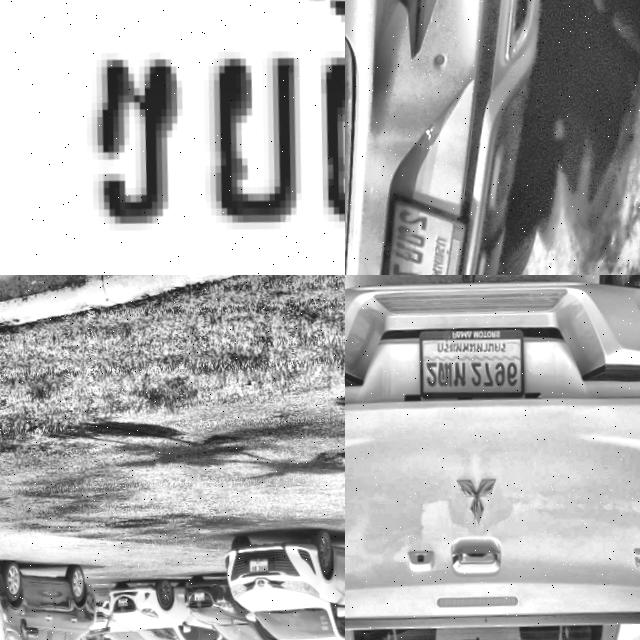license-plate: (0, 0, 345, 275), (345, 26, 440, 162), (413, 325, 524, 405), (243, 562, 265, 578), (188, 595, 200, 605), (112, 599, 123, 609)
